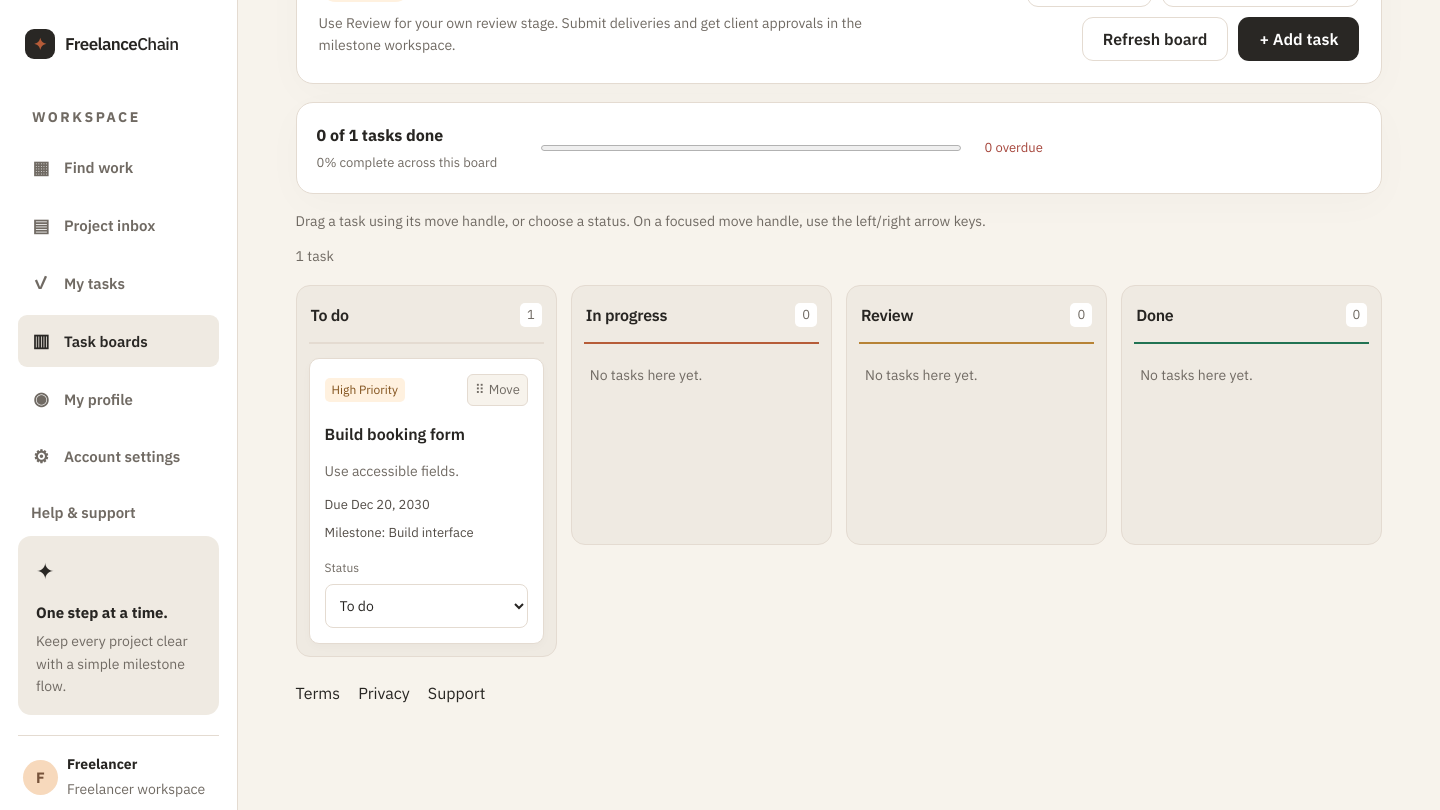
a saved task with a failed refresh is clearly reported as saved
This screenshot has width=1440, height=810.
(page scrolled)
Click the button "Build booking form" at (426, 434), box [325,418,528,450]
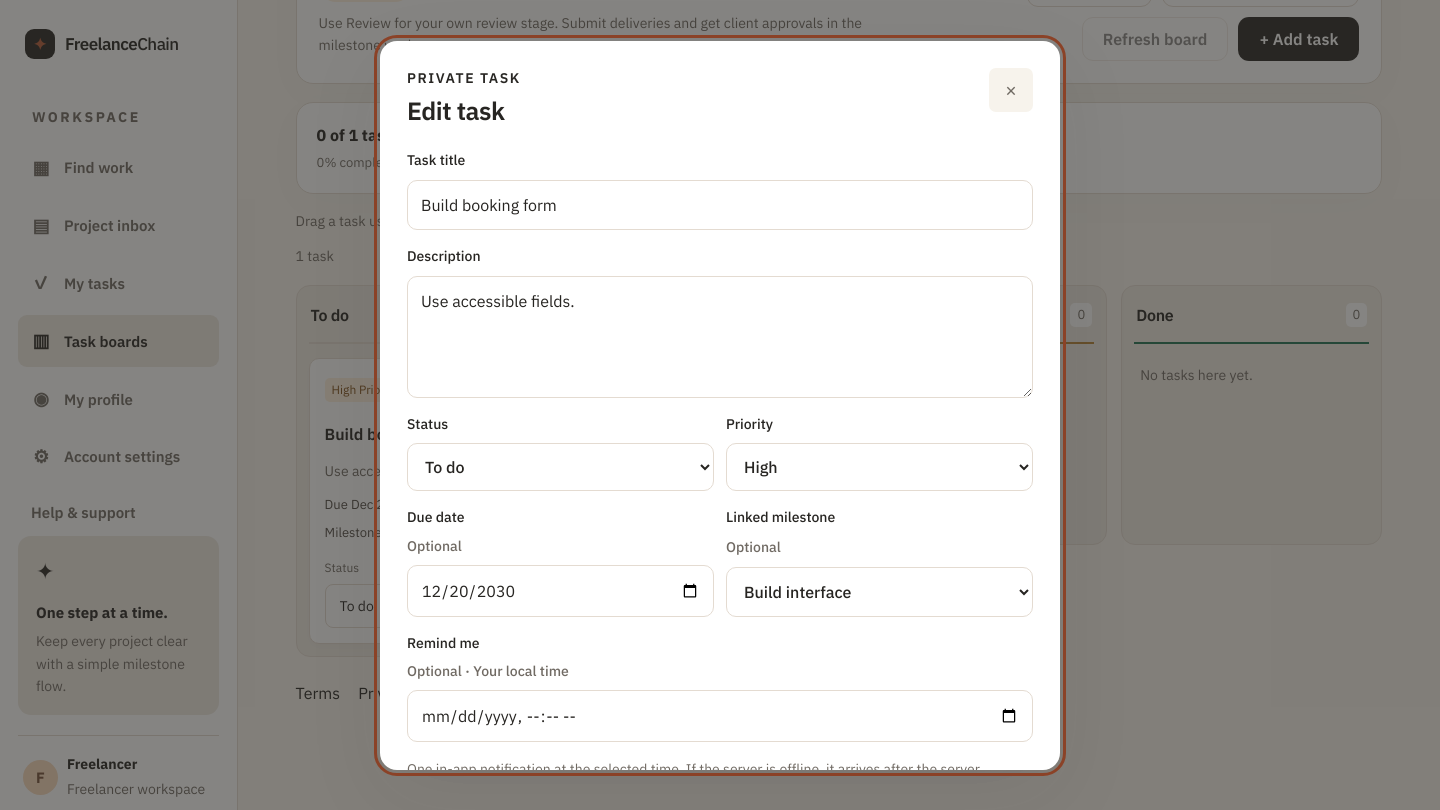
Select "Urgent" in the dropdown labelled "Priority" at (880, 467), box [726,443,1033,491]
(page scrolled)
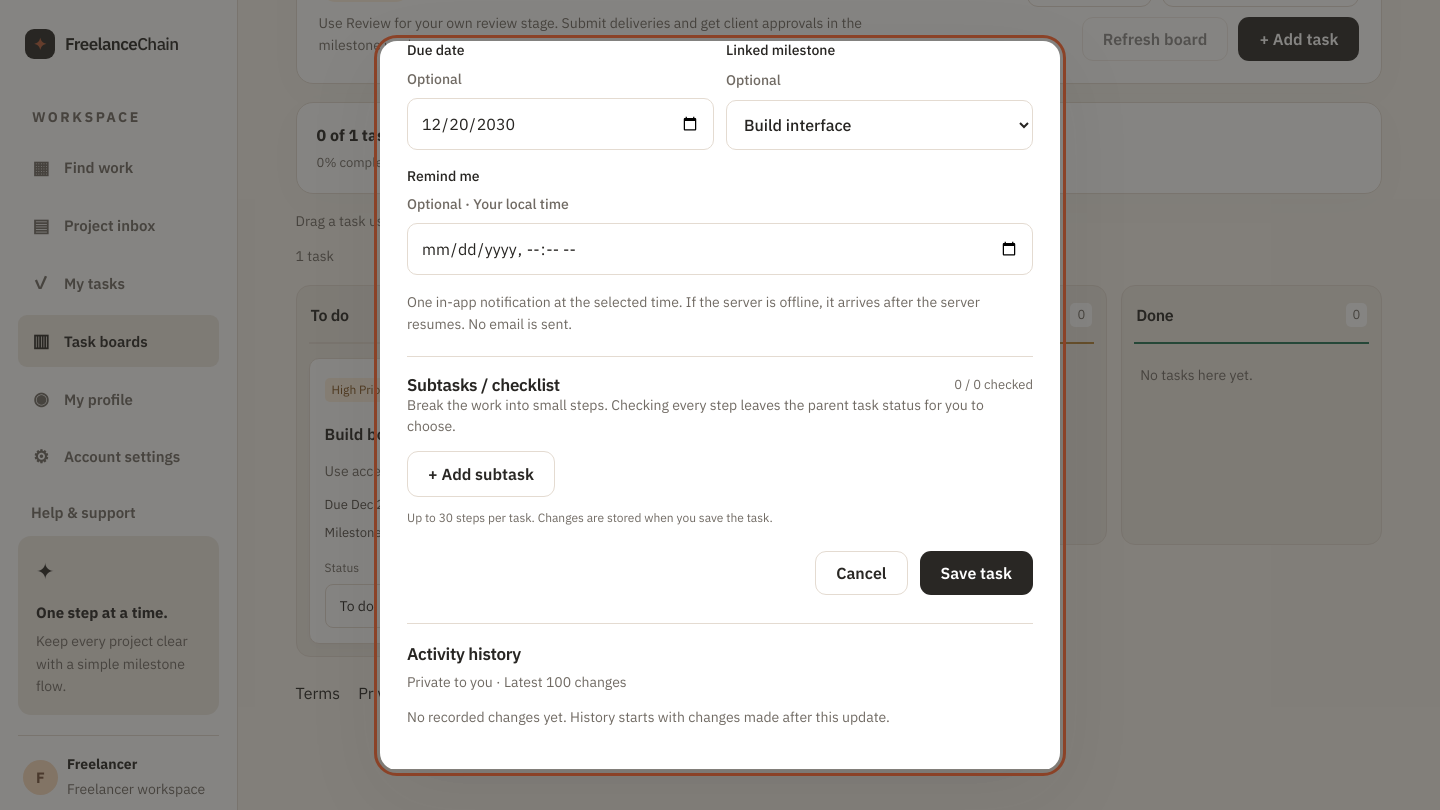
Click the button "Save task" at (976, 573), box [920,551,1033,595]
(page scrolled)
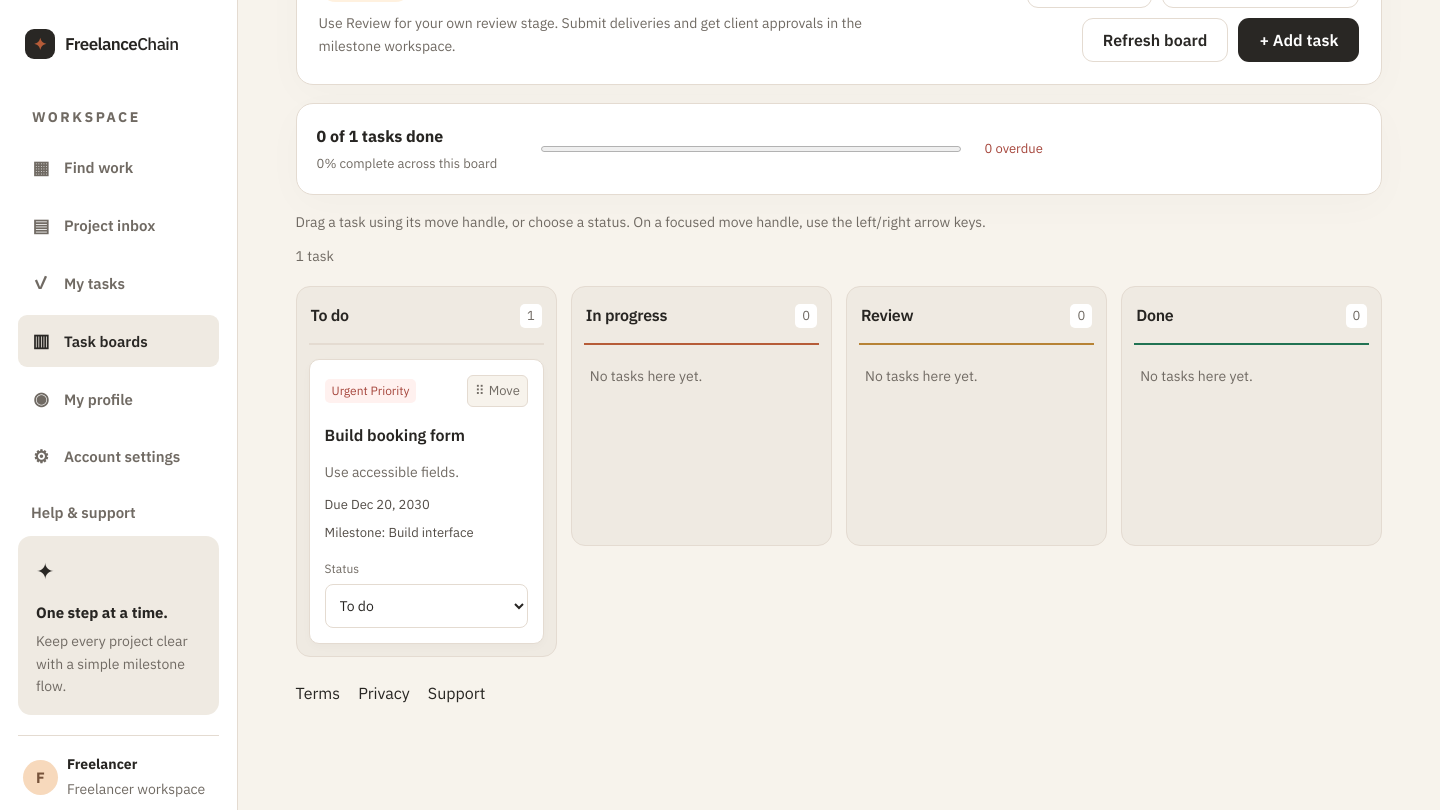
Check: the dialog is gone
Check: the text "urgent priority" is shown, box [325,379,416,403]
